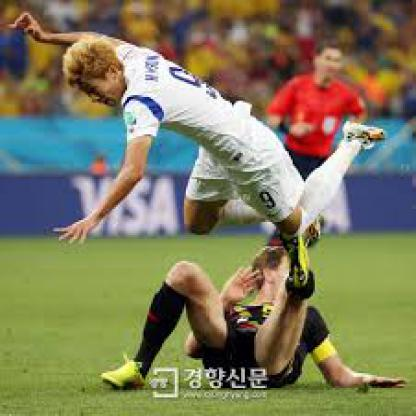Fall_Down: (8, 9, 389, 250)
